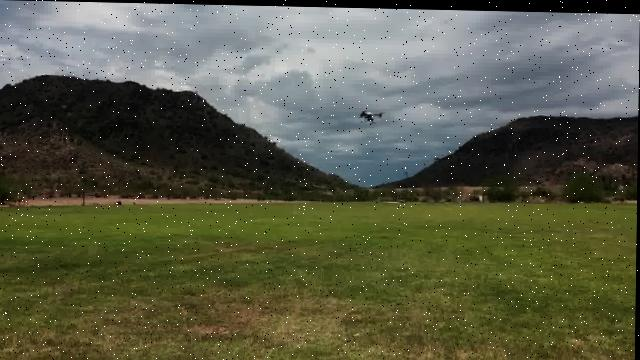drone: (358, 106, 386, 123)
